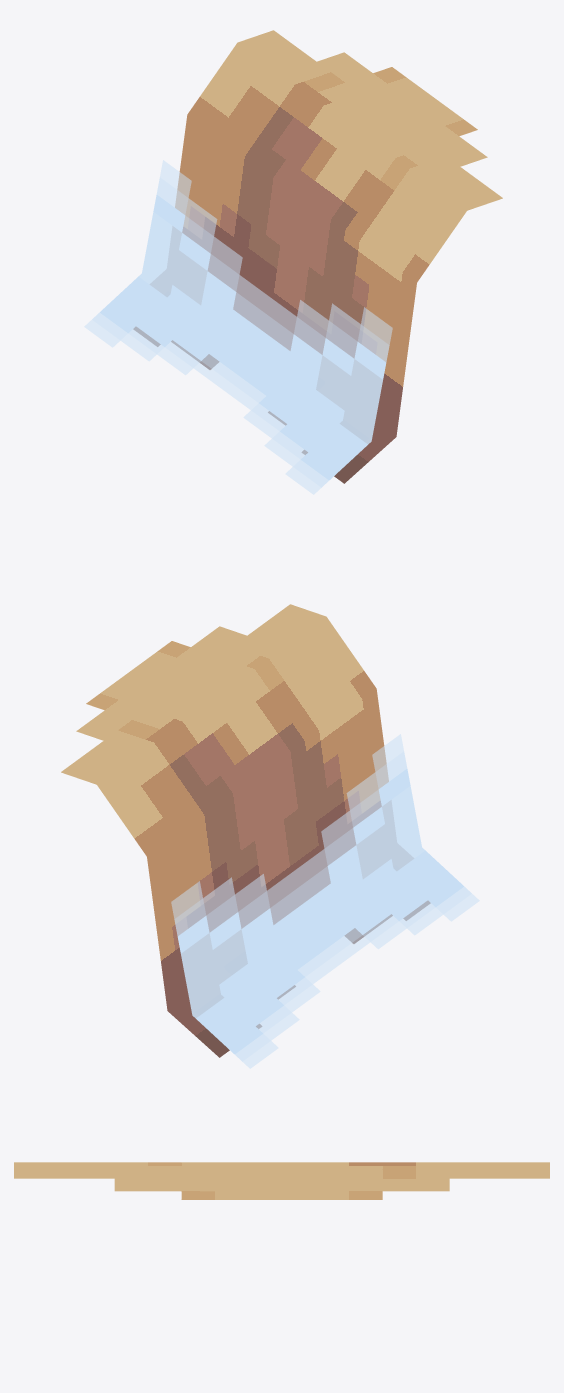
3 views of the same model, one above another, from view 1: azimuth 30°, elevation 25°; view 2: azimuth 150°, elevation 25°; view 3: azimuth 270°, elevation 25° (orthographic). The views are drawn at different scales.
Bounding box in the file's own units: 0.7695 × 0.7266 × 1.
2 materials, 2 textured.
